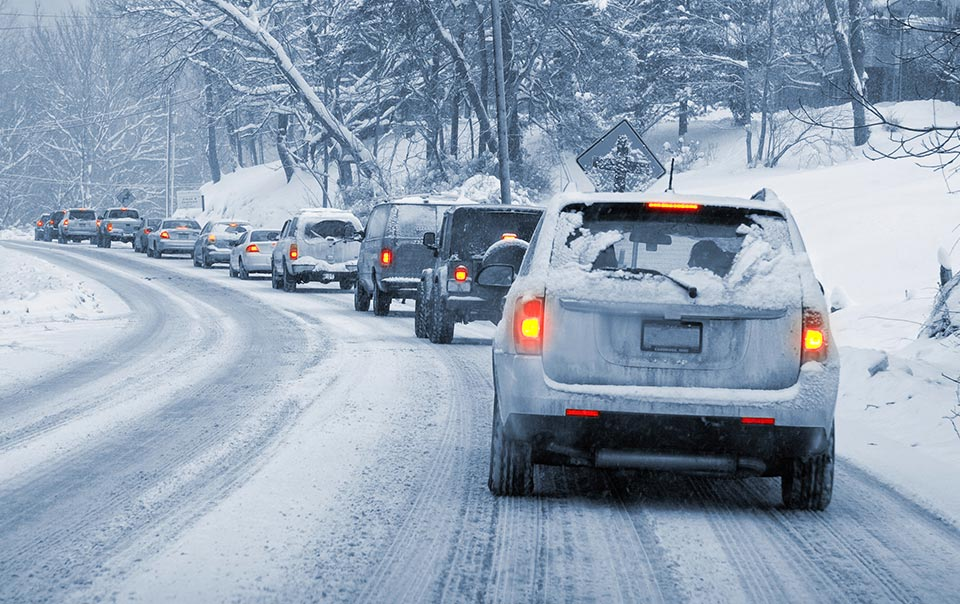car: (490, 179, 840, 512), (418, 208, 522, 326), (355, 203, 431, 315), (272, 207, 359, 294), (229, 229, 275, 281), (149, 218, 201, 259), (193, 221, 233, 269), (60, 208, 104, 249)
truck: (99, 209, 153, 247)
